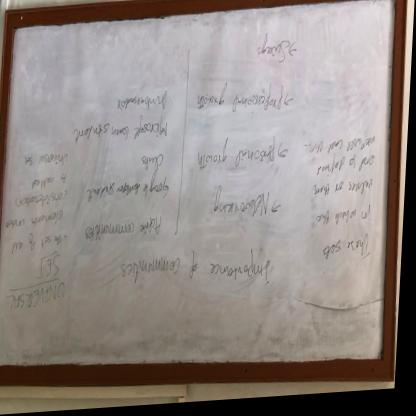Handwritten text: (116, 248, 277, 305), (194, 79, 287, 128), (192, 135, 280, 181), (81, 175, 174, 210), (70, 118, 173, 149), (208, 183, 273, 232), (82, 216, 167, 249), (307, 180, 380, 209), (321, 237, 376, 275), (8, 284, 73, 316), (311, 206, 379, 235), (109, 89, 171, 119), (313, 158, 382, 182), (252, 35, 291, 75), (4, 211, 69, 235), (10, 231, 65, 256), (21, 150, 70, 175), (14, 190, 71, 211), (38, 254, 67, 282), (29, 174, 75, 190), (139, 154, 168, 176)
